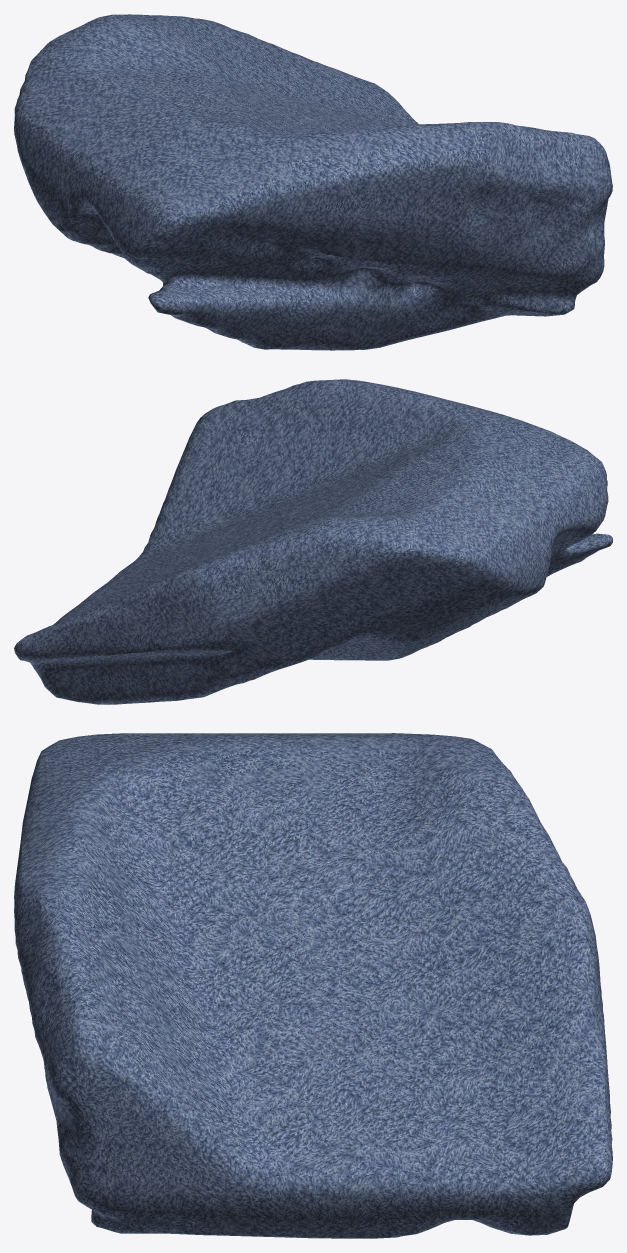
The picture shows the model from 3 angles, top to bottom: view 1: azimuth 30°, elevation 25°; view 2: azimuth 150°, elevation 25°; view 3: azimuth 270°, elevation 25°; orthographic projection. The views are drawn at different scales.
Visible parts, largest first — view 1: Multiview fitted textile rest surface; view 2: Multiview fitted textile rest surface; view 3: Multiview fitted textile rest surface.
Boxes of the visible parts, <box> form: Multiview fitted textile rest surface: <box>14,14,612,350</box>; Multiview fitted textile rest surface: <box>14,379,612,704</box>; Multiview fitted textile rest surface: <box>14,733,612,1238</box>.
Bounding box in the file's own units: 0.1309 × 0.0684 × 0.1218.
Materials: 1 (1 with a texture image).
